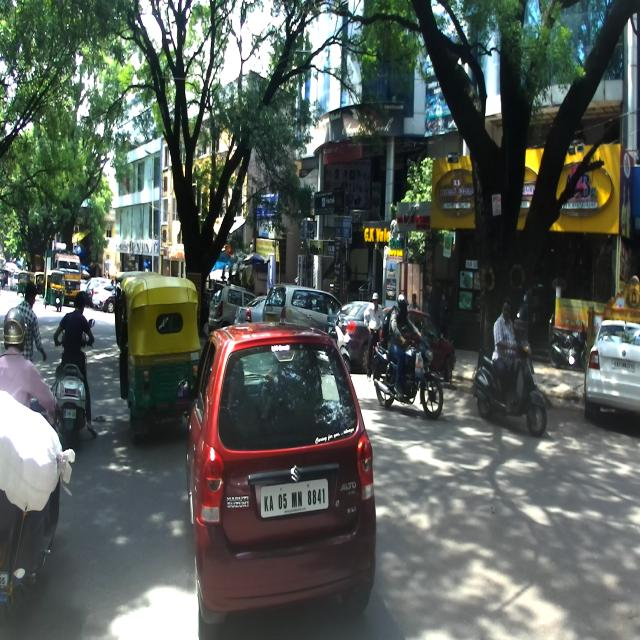auto ahead at: (114, 267, 194, 428)
car ahead at: (187, 321, 376, 635)
motorcycle ahead at: (474, 332, 554, 439), (55, 352, 99, 424)
